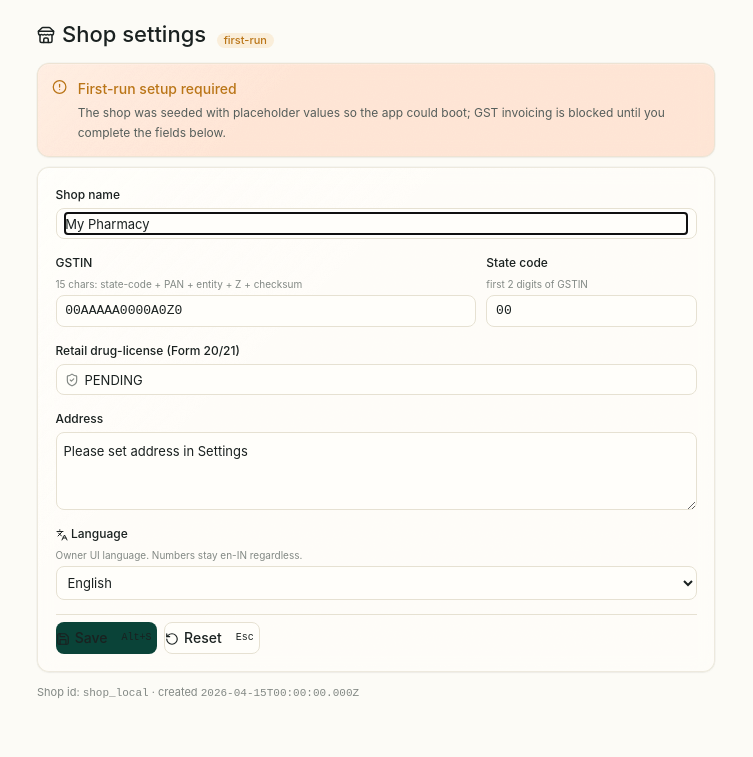
Test: SettingsScreen (F5b) › rejects malformed GSTIN without hitting backend
Replace the text in the field with test id "f-gstin" with "INVALIDGSTIN123": {"x": 266, "y": 312} [65, 302, 466, 322]
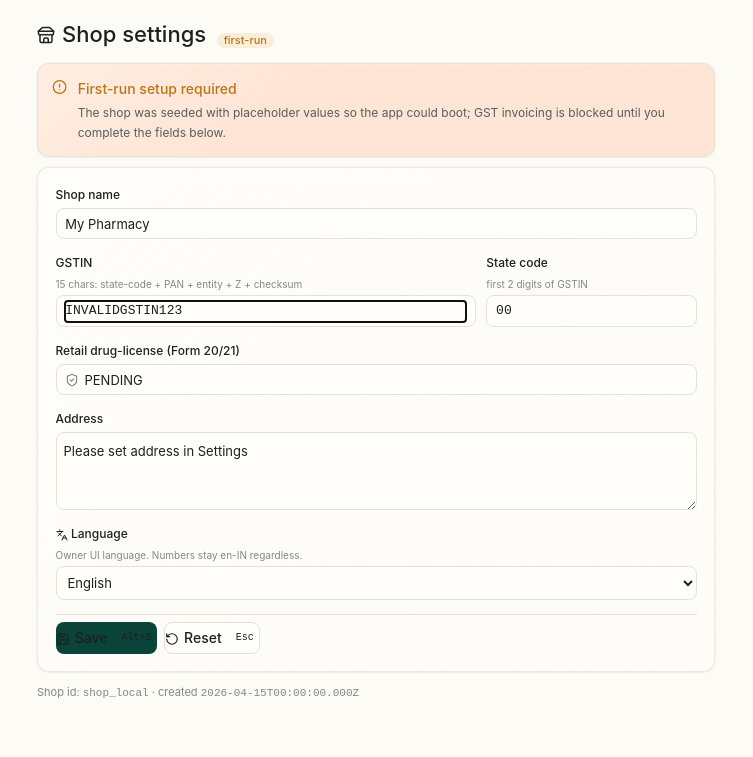
Click the button with test id "f-save": {"x": 106, "y": 639} [56, 623, 157, 655]
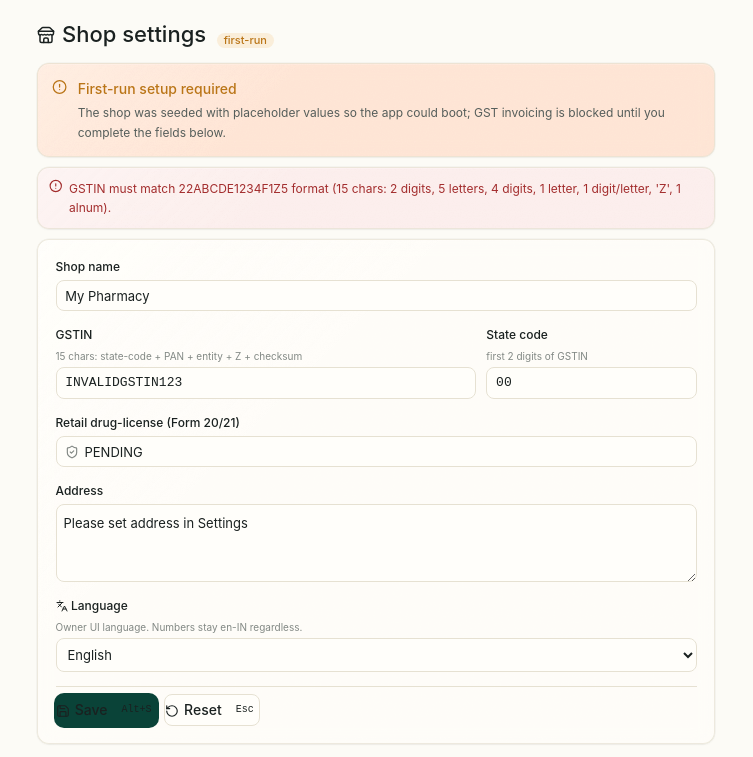
Now the element with test id "settings-err" shows "GSTIN", box [69, 181, 681, 215]
